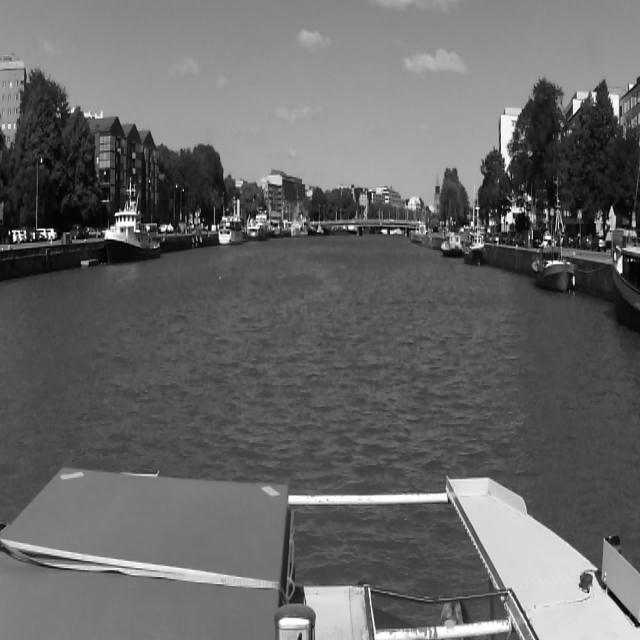ship: (98, 181, 164, 271), (530, 228, 574, 294), (464, 185, 488, 267), (246, 212, 272, 244), (218, 214, 244, 246), (440, 227, 463, 260), (274, 225, 284, 239)
